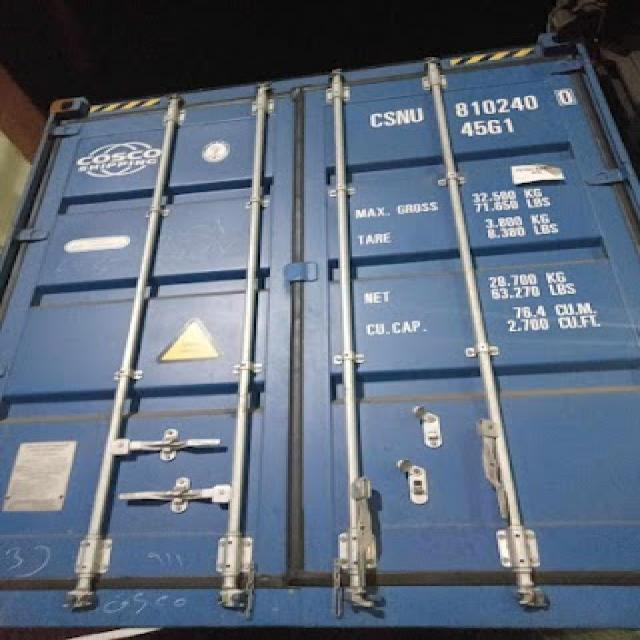ISO: (462, 119, 516, 138)
container_number: (366, 90, 566, 118)
